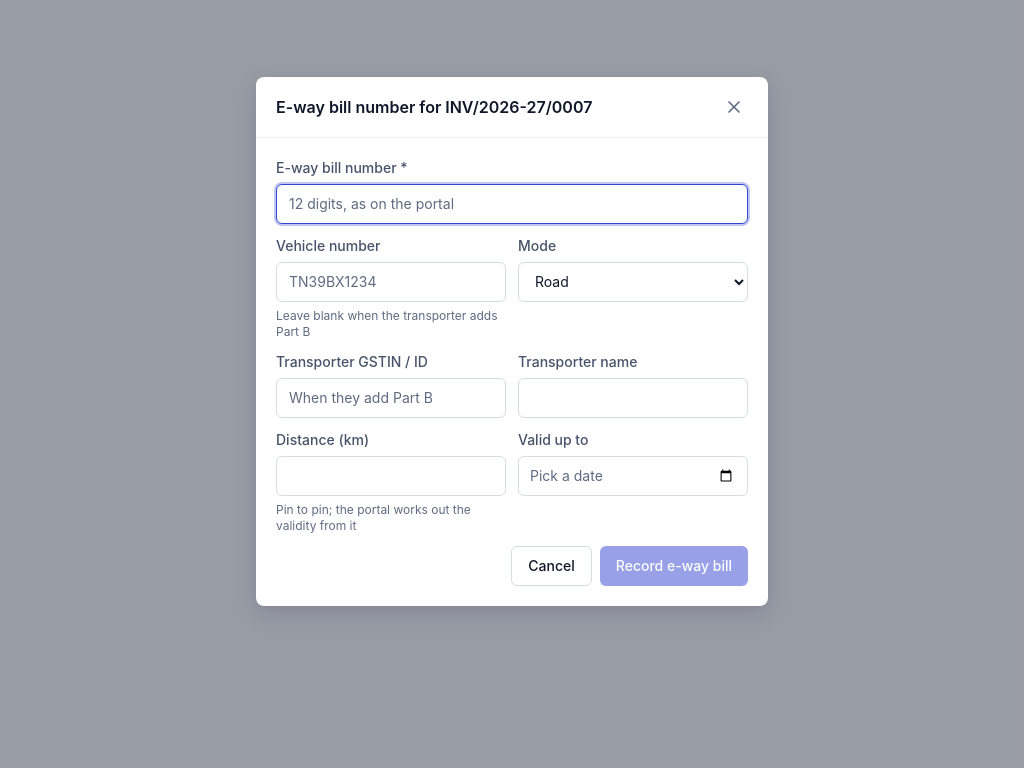
the e-way bill dialog › still wants all twelve digits of a pasted number
The width and height of the screenshot is (1024, 768).
In the field labelled "E-way bill number *": (512, 204) x1=276 y1=184 x2=748 y2=224, type "32109876543"
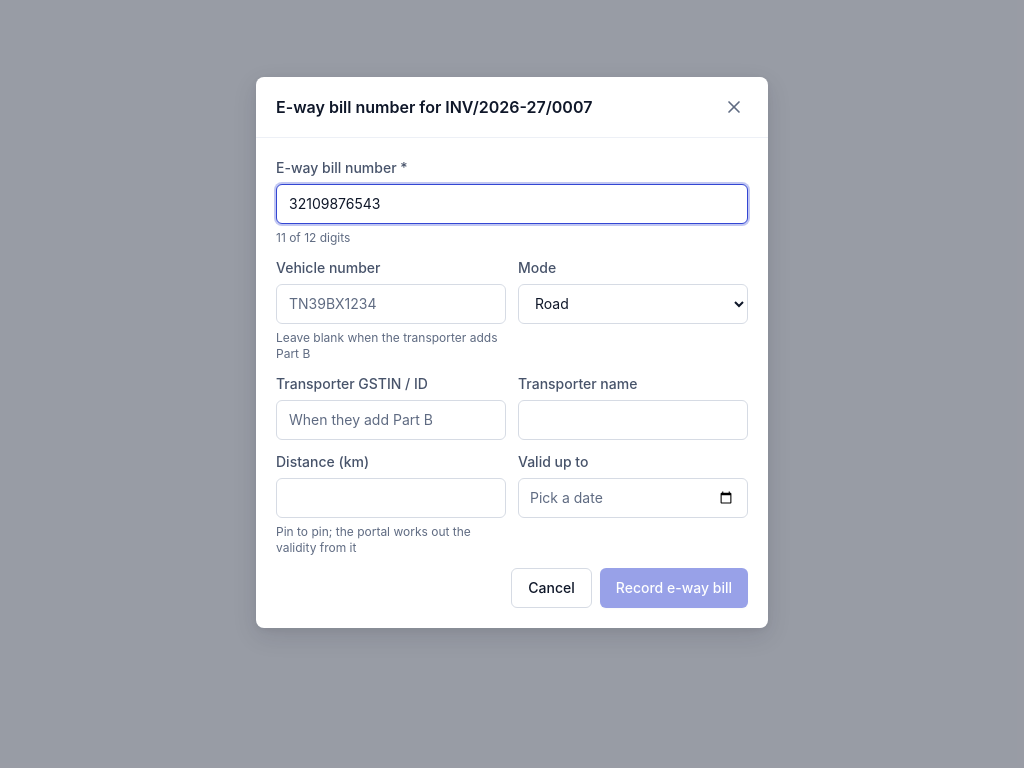
Expected: the button "Record e-way bill" is disabled, x1=600 y1=568 x2=748 y2=608
Expected: the text "11 of 12 digits" is shown, x1=276 y1=230 x2=350 y2=245
